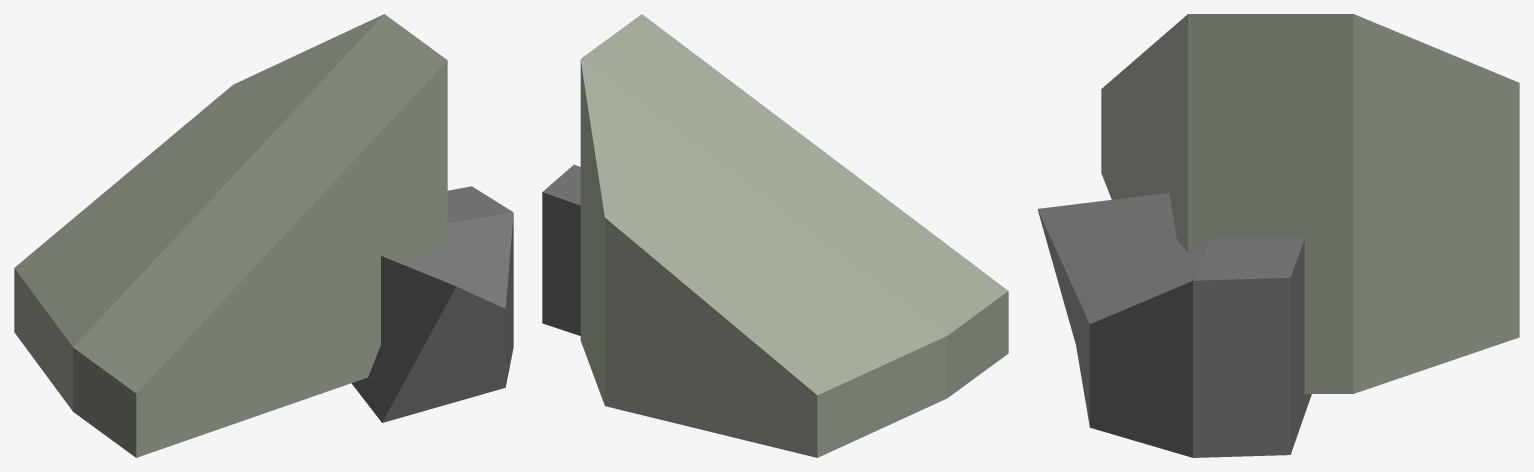
Rendered from rock-type5-04-green.glb.
The picture shows the model from 3 angles, left to right: view 1: azimuth 30°, elevation 25°; view 2: azimuth 150°, elevation 25°; view 3: azimuth 270°, elevation 25°; orthographic projection. The views are drawn at different scales.
Visible parts, largest first — view 1: Rock_Type5_04_mesh; view 2: Rock_Type5_04_mesh; view 3: Rock_Type5_04_mesh.
Part boxes in pixels (<box>): Rock_Type5_04_mesh: <box>14,14,513,457</box>; Rock_Type5_04_mesh: <box>542,14,1008,457</box>; Rock_Type5_04_mesh: <box>1037,14,1519,457</box>.
Bounding box in the file's own units: 1.18 × 0.8351 × 0.911.
1 material, 1 textured.
